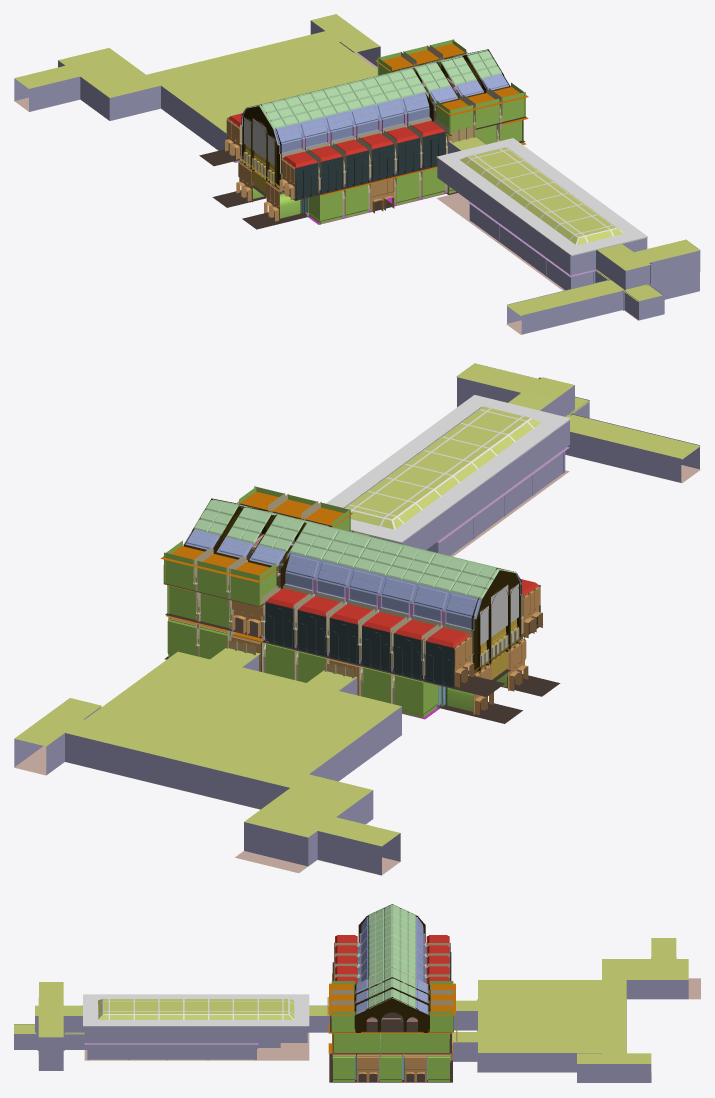
File: Archi_Museum_MESH.fbx
3 renders of one model, top to bottom at view 1: azimuth 30°, elevation 25°; view 2: azimuth 150°, elevation 25°; view 3: azimuth 270°, elevation 25°, orthographic. The views are drawn at different scales.
Parts seen in each view (by area): view 1: Archi_Annexes_Plafond, Archi_Annexes_Murs, Archi_Murs, Archi_Toit_01, Archi_Block_Shadoxs, Archi_Annexes_Plafond_Glass, Archi_Toit_02, Archi_Murs_Glass, Archi_Arches, Archi_Portes_01, Archi_Toit_Glass, Archi_Murs_Fenetres (+7 smaller); view 2: Archi_Annexes_Plafond, Archi_Annexes_Murs, Archi_Murs, Archi_Toit_01, Archi_Block_Shadoxs, Archi_Annexes_Plafond_Glass, Archi_Arches, Archi_Murs_Glass, Archi_Toit_02, Archi_Portes_01, Archi_Toit_Glass, Archi_Murs_Fenetres (+7 smaller); view 3: Archi_Annexes_Plafond, Archi_Annexes_Murs, Archi_Murs, Archi_Toit_01, Archi_Block_Shadoxs, Archi_Annexes_Plafond_Glass, Archi_Plafond_01, Archi_Centre, Archi_Sol, Archi_Annexes_Sol, Archi_Plafond_02, Archi_Portes_01 (+5 smaller).
Boxes of the visible parts, x1,y1,x2,y2 form: Archi_Annexes_Plafond: [14, 14, 700, 315]; Archi_Annexes_Murs: [14, 20, 700, 334]; Archi_Murs: [246, 39, 525, 224]; Archi_Toit_01: [246, 50, 501, 129]; Archi_Block_Shadoxs: [436, 138, 647, 256]; Archi_Annexes_Plafond_Glass: [460, 147, 623, 245]; Archi_Toit_02: [241, 52, 509, 154]; Archi_Murs_Glass: [228, 136, 445, 197]; Archi_Arches: [240, 45, 502, 214]; Archi_Portes_01: [225, 118, 451, 221]; Archi_Toit_Glass: [243, 53, 507, 142]; Archi_Murs_Fenetres: [227, 118, 445, 199]; Archi_Annexes_Plafond: [14, 363, 700, 846]; Archi_Annexes_Murs: [14, 366, 699, 875]; Archi_Murs: [163, 486, 515, 718]; Archi_Toit_01: [194, 499, 516, 599]; Archi_Block_Shadoxs: [326, 395, 570, 543]; Archi_Annexes_Plafond_Glass: [344, 406, 541, 529]; Archi_Arches: [193, 493, 523, 704]; Archi_Murs_Glass: [265, 608, 537, 684]; Archi_Toit_02: [184, 503, 522, 630]; Archi_Portes_01: [168, 585, 542, 715]; Archi_Toit_Glass: [187, 503, 519, 615]; Archi_Murs_Fenetres: [265, 585, 540, 687]; Archi_Annexes_Plafond: [14, 938, 688, 1063]; Archi_Annexes_Murs: [14, 980, 688, 1082]; Archi_Murs: [331, 981, 453, 1081]; Archi_Toit_01: [368, 904, 415, 1008]; Archi_Block_Shadoxs: [83, 994, 309, 1026]; Archi_Annexes_Plafond_Glass: [98, 999, 294, 1019]; Archi_Plafond_01: [335, 935, 449, 984]; Archi_Centre: [354, 904, 429, 1054]; Archi_Sol: [329, 952, 453, 1082]; Archi_Annexes_Sol: [38, 957, 700, 1082]; Archi_Plafond_02: [328, 973, 455, 1053]; Archi_Portes_01: [333, 936, 452, 1081].
Bounding box in the file's own units: 71.16 × 23.53 × 164.
